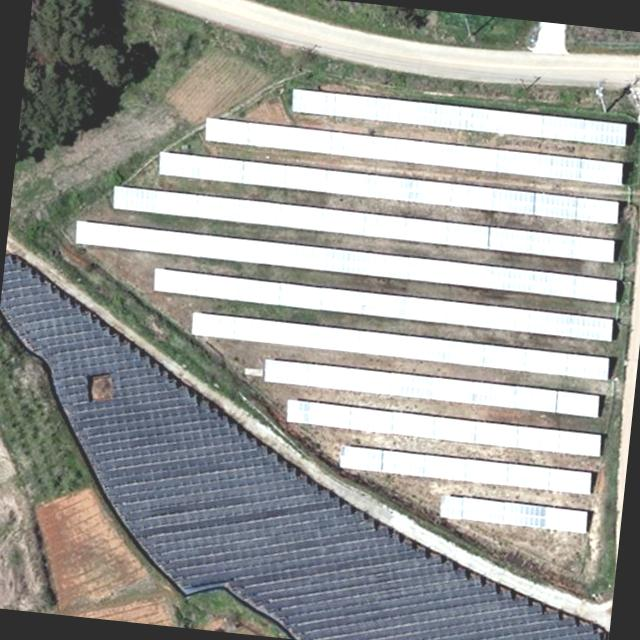solar: (70, 220, 622, 304), (106, 183, 622, 265), (154, 148, 624, 224), (149, 268, 616, 344), (188, 312, 612, 382), (204, 116, 626, 184), (286, 84, 630, 150), (261, 356, 605, 420), (282, 398, 604, 458), (337, 442, 599, 498), (437, 491, 596, 536)
